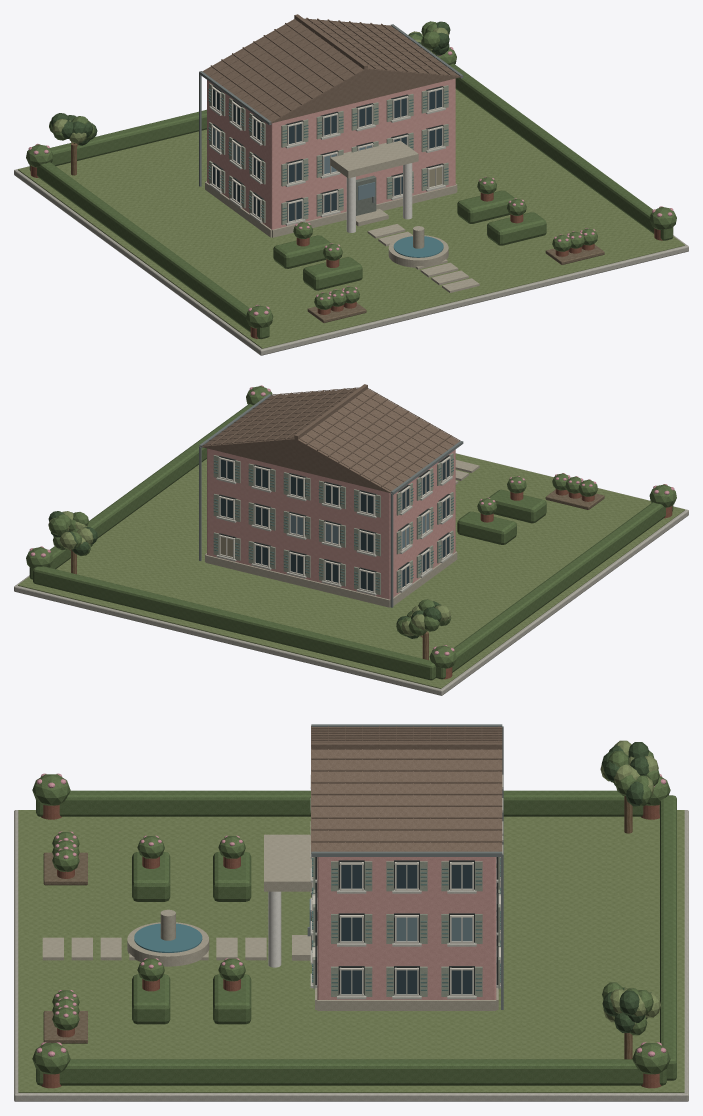
Rendered from EXP_VILLA_FORMAL.glb.
3 views of the same model, one above another, from view 1: azimuth 30°, elevation 25°; view 2: azimuth 150°, elevation 25°; view 3: azimuth 270°, elevation 25° (orthographic). The views are drawn at different scales.
Parts seen in each view (by area): view 1: EXP_VILLA_FORMAL_Visual; view 2: EXP_VILLA_FORMAL_Visual; view 3: EXP_VILLA_FORMAL_Visual.
Part boxes in pixels (x1=…): EXP_VILLA_FORMAL_Visual: x1=14, y1=14, x2=688, y2=355; EXP_VILLA_FORMAL_Visual: x1=14, y1=384, x2=688, y2=695; EXP_VILLA_FORMAL_Visual: x1=14, y1=724, x2=688, y2=1101.
Size of what is drawn, in the model's own units: 7.92 by 2.8 by 7.92.
Materials: 25 (18 with a texture image).
